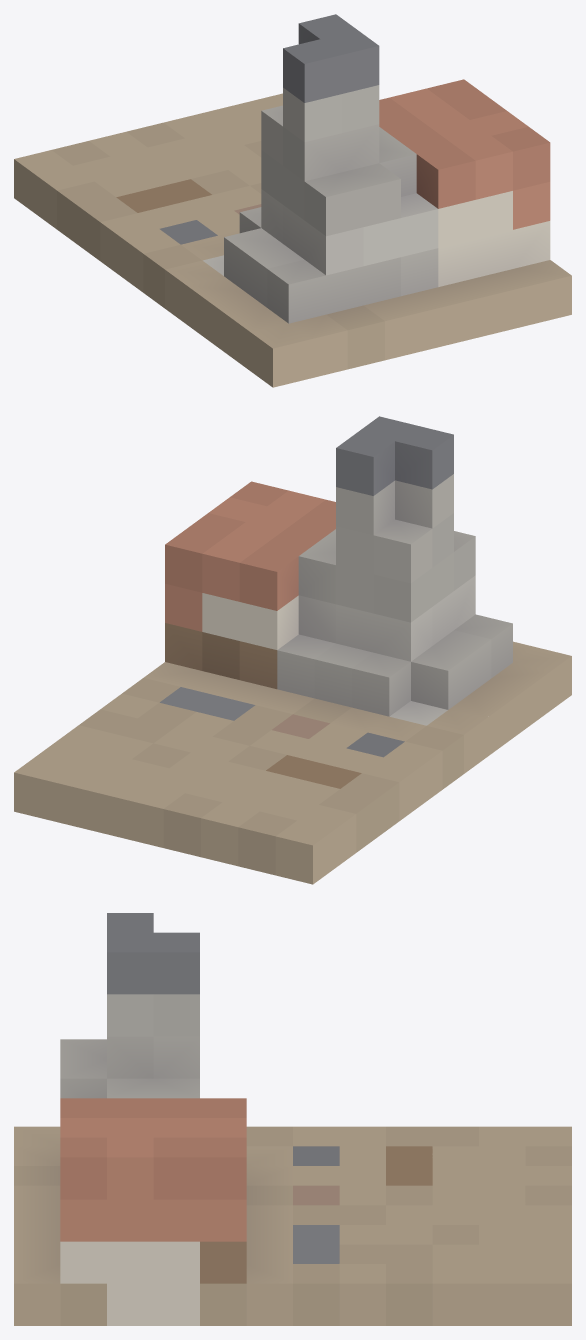
Rendered from smelter.lite.glb.
The picture shows the model from 3 angles, top to bottom: view 1: azimuth 30°, elevation 25°; view 2: azimuth 150°, elevation 25°; view 3: azimuth 270°, elevation 25°; orthographic projection. The views are drawn at different scales.
Parts seen in each view (by area): view 1: smelter; view 2: smelter; view 3: smelter.
Part boxes in pixels (box(x1,y1,x2,y2)): smelter: box(14, 14, 571, 387); smelter: box(14, 416, 571, 884); smelter: box(14, 913, 571, 1325).
Bounding box in the file's own units: 4 × 3.5 × 6.
